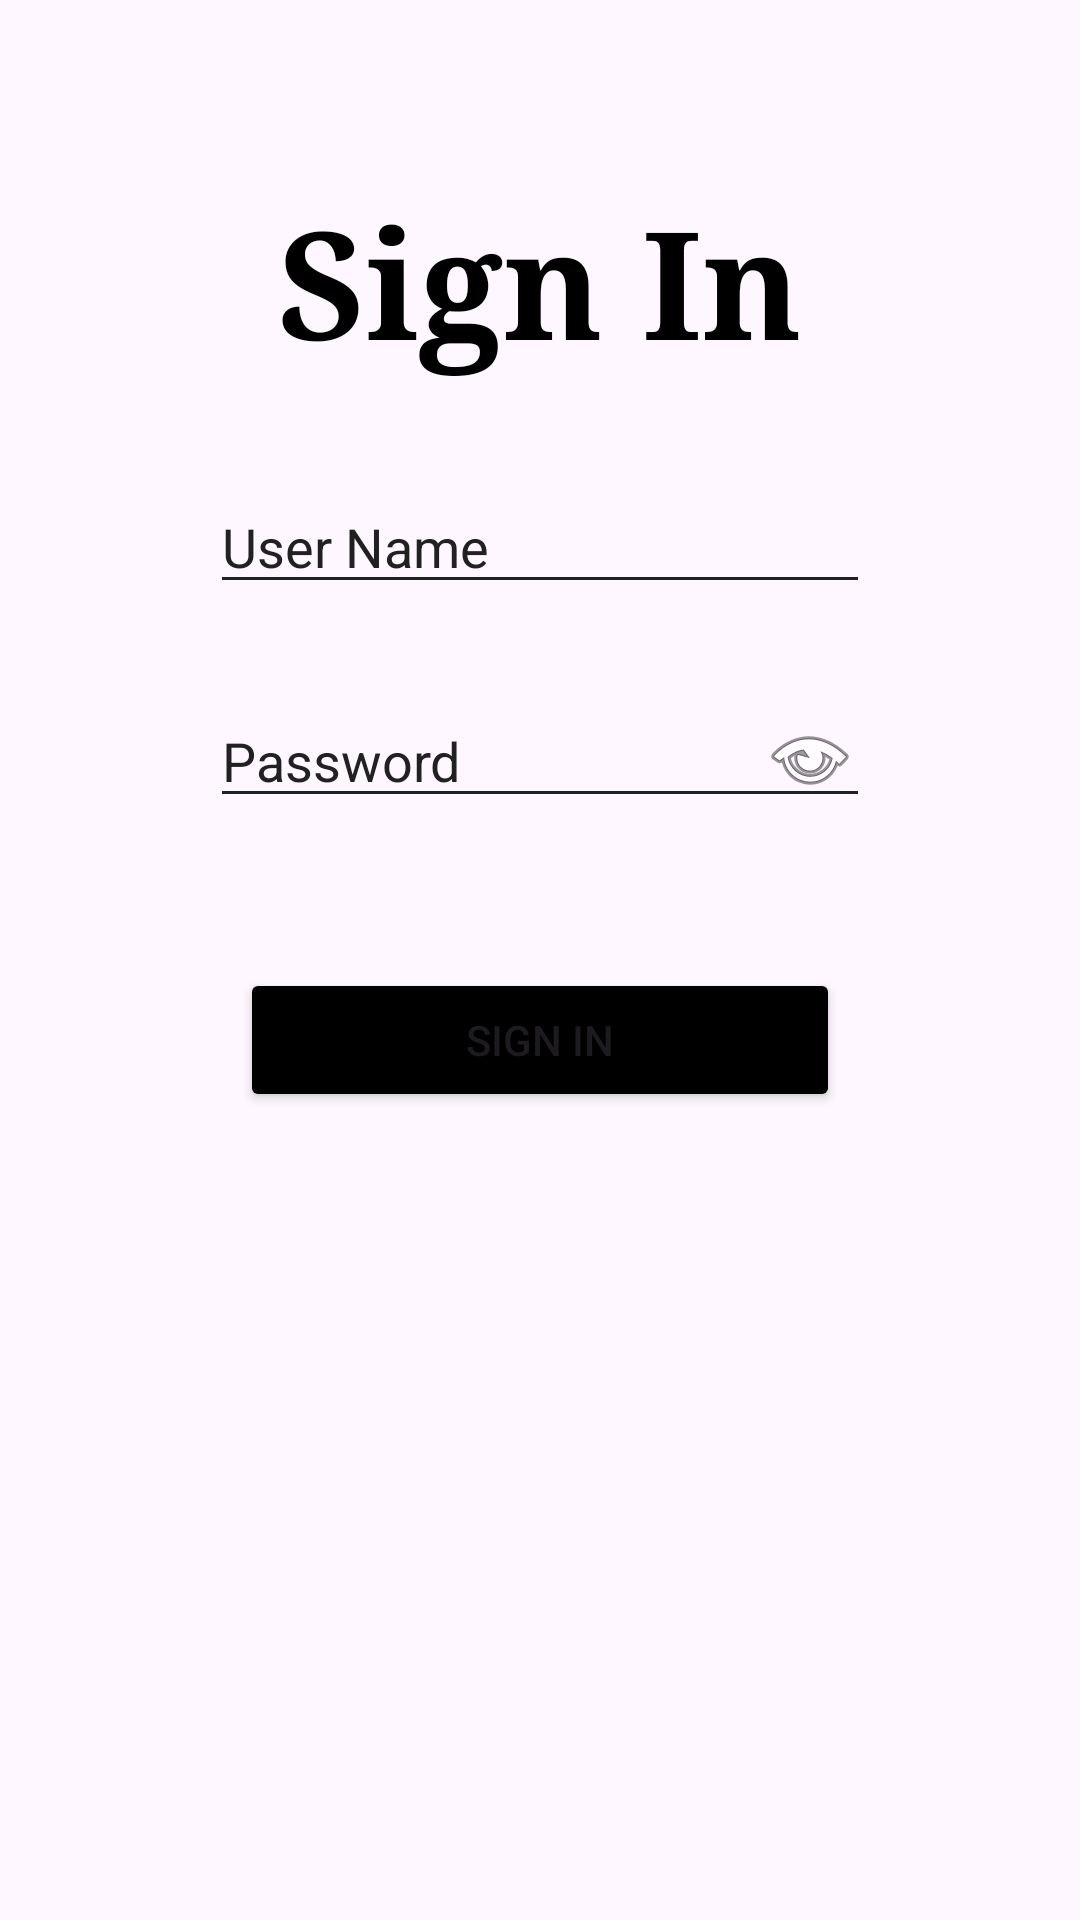

Named icons in this screenshot (1080 × 1920) and their centers, (x,y):
view: (810,760)
